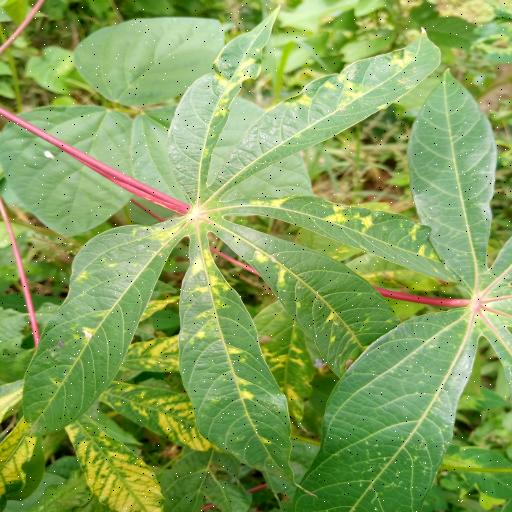Cassava_Mosaic: (23, 4, 442, 456)
